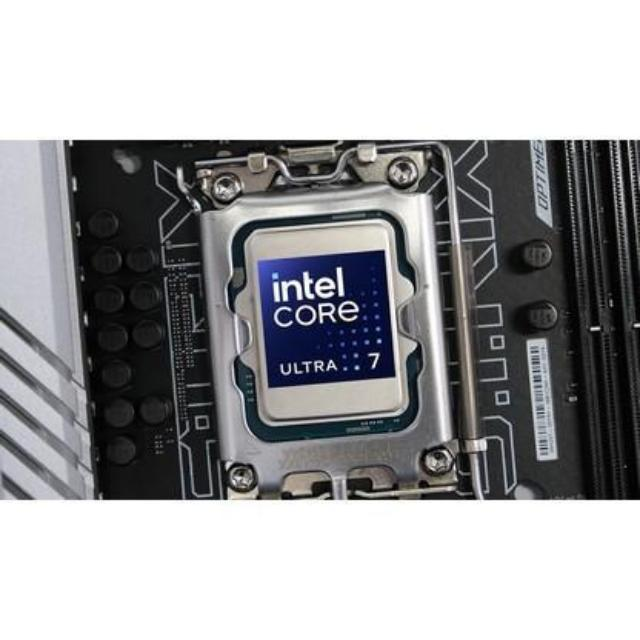CPU: (244, 230, 413, 425)
